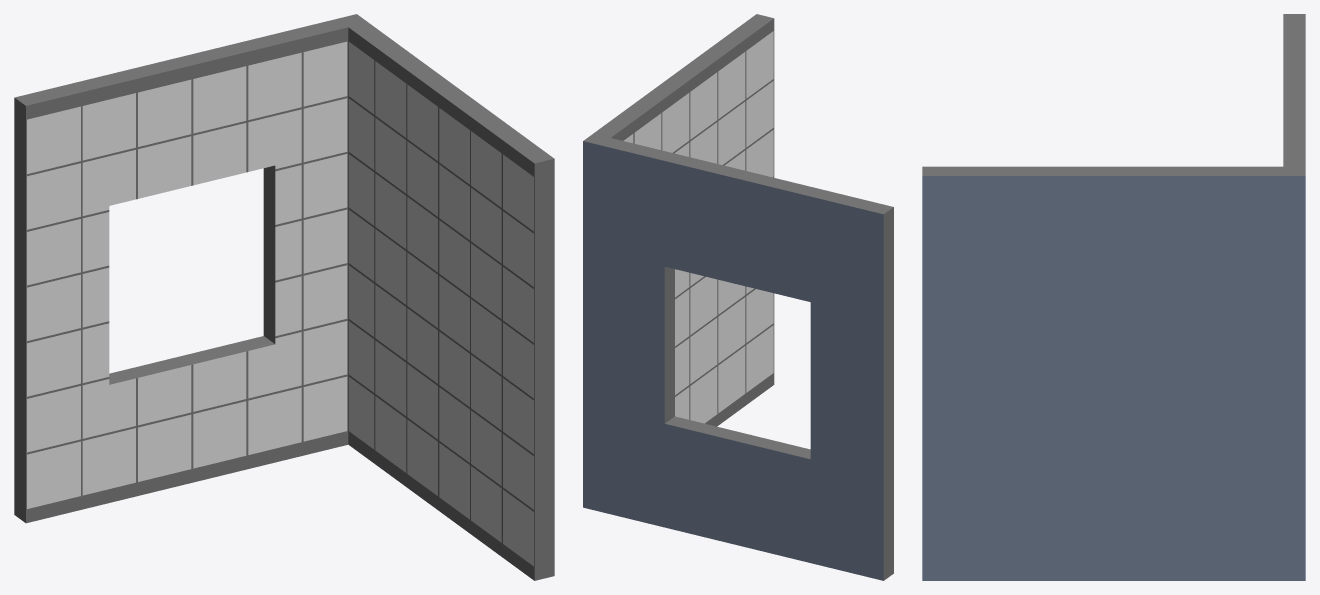
The model's file is Wall3_C7_10.fbx.
The picture shows the model from 3 angles, left to right: view 1: azimuth 30°, elevation 25°; view 2: azimuth 150°, elevation 25°; view 3: azimuth 270°, elevation 25°; orthographic projection. The views are drawn at different scales.
Parts seen in each view (by area): view 1: Wall3_C7_10; view 2: Wall3_C7_10; view 3: Wall3_C7_10.
Part boxes in pixels (x1,y1,x2,y2): Wall3_C7_10: (14, 14, 554, 580); Wall3_C7_10: (583, 14, 893, 580); Wall3_C7_10: (922, 14, 1305, 580).
Size of the model in its own units: 258 by 300 by 258.
